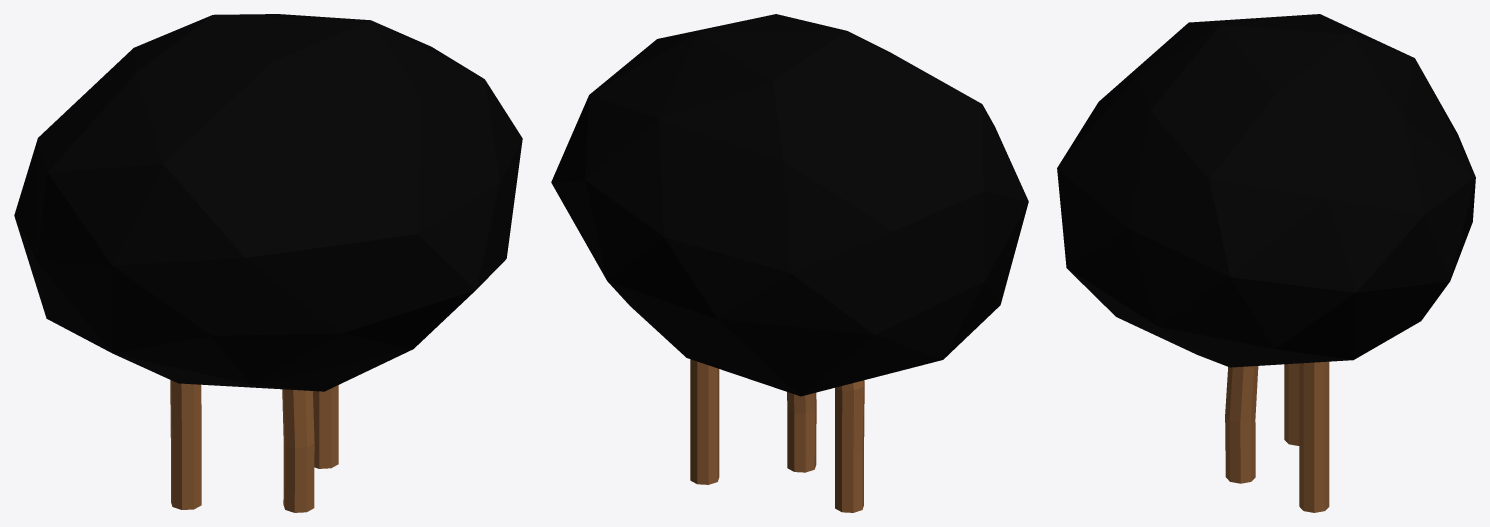
The model's file is Bush_1_Small.fbx.
The picture shows the model from 3 angles, left to right: view 1: azimuth 30°, elevation 25°; view 2: azimuth 150°, elevation 25°; view 3: azimuth 270°, elevation 25°; orthographic projection. The views are drawn at different scales.
Visible parts, largest first — view 1: Bush_1_Small; view 2: Bush_1_Small; view 3: Bush_1_Small.
Part boxes in pixels (<box>): Bush_1_Small: <box>14,14,522,512</box>; Bush_1_Small: <box>551,14,1028,512</box>; Bush_1_Small: <box>1057,14,1475,512</box>.
Size of the model in its own units: 0.2293 by 0.2268 by 0.1978.
